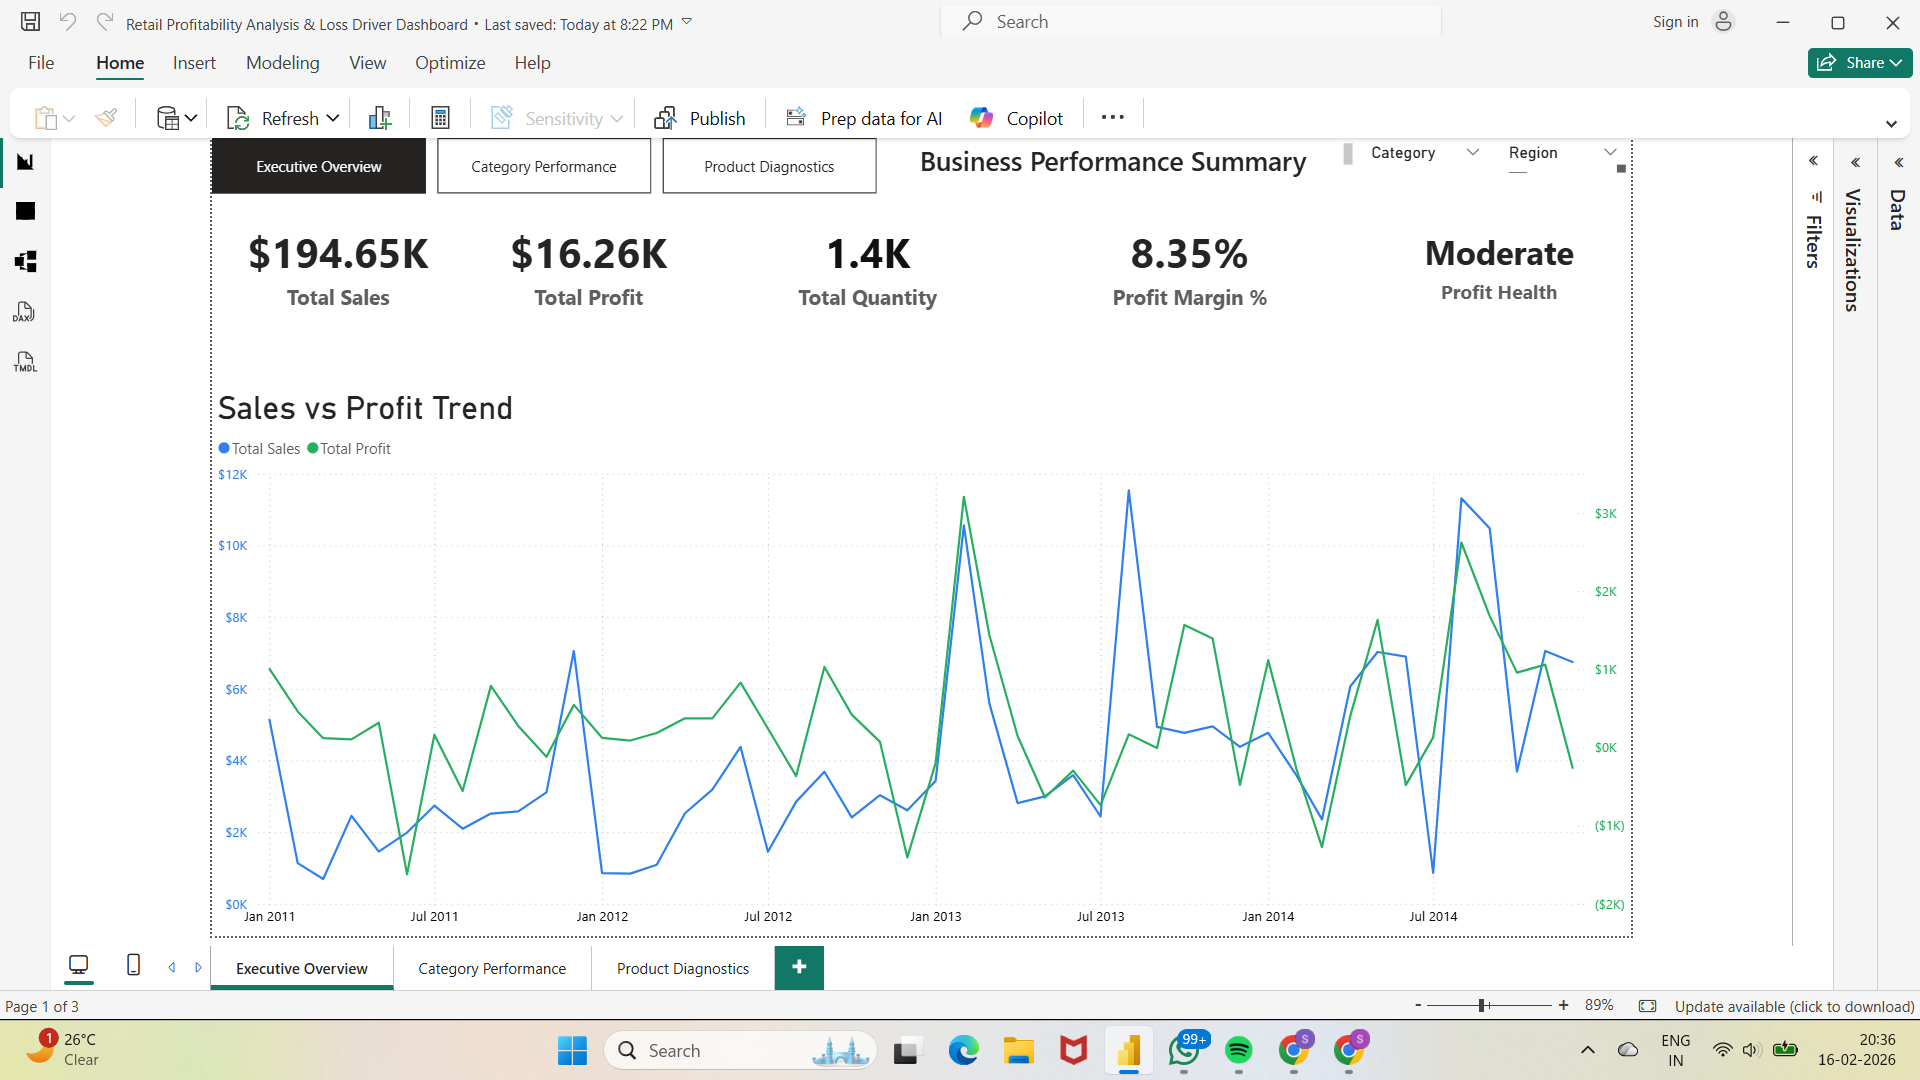

The page's visual inventory and layout, read from the dashboard file:
{"tool":"powerbi","page":{"name":"Executive Overview","canvas":[1280,720],"ordinal":0},"visuals":[{"type":"card","fields":{"Values":["superstore.Total Sales"]},"box":[0,49.8,227.6,131.9],"z":0},{"type":"card","fields":{"Values":["superstore.Total Profit"]},"box":[219.6,49.8,240.1,131.9],"z":1000},{"type":"card","fields":{"Values":["superstore.Total Quantity"]},"box":[451.6,49.8,278.6,131.9],"z":2000},{"type":"card","fields":{"Values":["superstore.Profit Margin %"]},"box":[722.2,49.6,319,131.9],"z":3000},{"type":"lineChart","title":"Sales vs Profit Trend","fields":{"Y":["Sum(superstore.Sales)"],"Category":["superstore.Month Year.Variation.Date Hierarchy.Year","superstore.Month Year.Variation.Date Hierarchy.Month"],"Y2":["superstore.Total Profit"]},"box":[0,226.4,1280,493.9],"z":4000},{"type":"actionButton","box":[0,0,100,40],"z":5000},{"type":"pageNavigator","box":[0,0,600,50],"z":6000},{"type":"slicer","fields":{"Values":["superstore.Category"]},"box":[1032.9,0,123.8,24.4],"z":7000},{"type":"slicer","fields":{"Values":["superstore.Region"]},"box":[1156.6,0,123.8,36.5],"z":8000},{"type":"card","fields":{"Values":["superstore.Profit Health"]},"box":[1041.5,49.6,238.9,131.9],"z":9000},{"type":"textbox","box":[599.6,0,434.1,49.8],"z":10000}]}

Visuals, with their boxes on the page's 1280x720 design canvas (x1, y1, x2, y2). These are canvas units, not pixel positions in the 1920x1080 screenshot, which may show the page scaled, cropped or inside an application window:
card - superstore.Total Sales: detection(0, 50, 228, 182)
card - superstore.Total Profit: detection(220, 50, 460, 182)
card - superstore.Total Quantity: detection(452, 50, 730, 182)
card - superstore.Profit Margin %: detection(722, 50, 1041, 182)
"Sales vs Profit Trend" lineChart: detection(0, 226, 1280, 720)
actionButton: detection(0, 0, 100, 40)
pageNavigator: detection(0, 0, 600, 50)
slicer - superstore.Category: detection(1033, 0, 1157, 24)
slicer - superstore.Region: detection(1157, 0, 1280, 36)
card - superstore.Profit Health: detection(1042, 50, 1280, 182)
textbox: detection(600, 0, 1034, 50)
